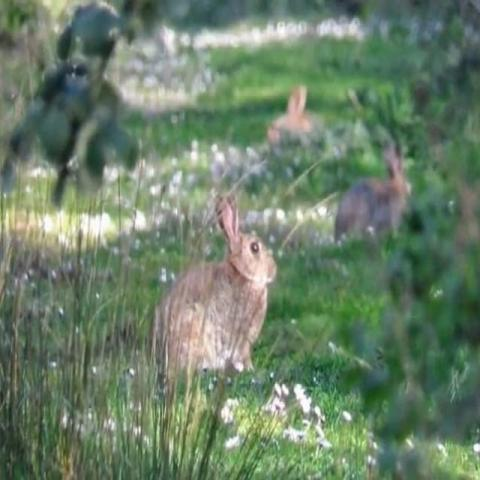small_animal: (148, 192, 278, 378), (331, 141, 416, 248), (267, 85, 322, 148)
